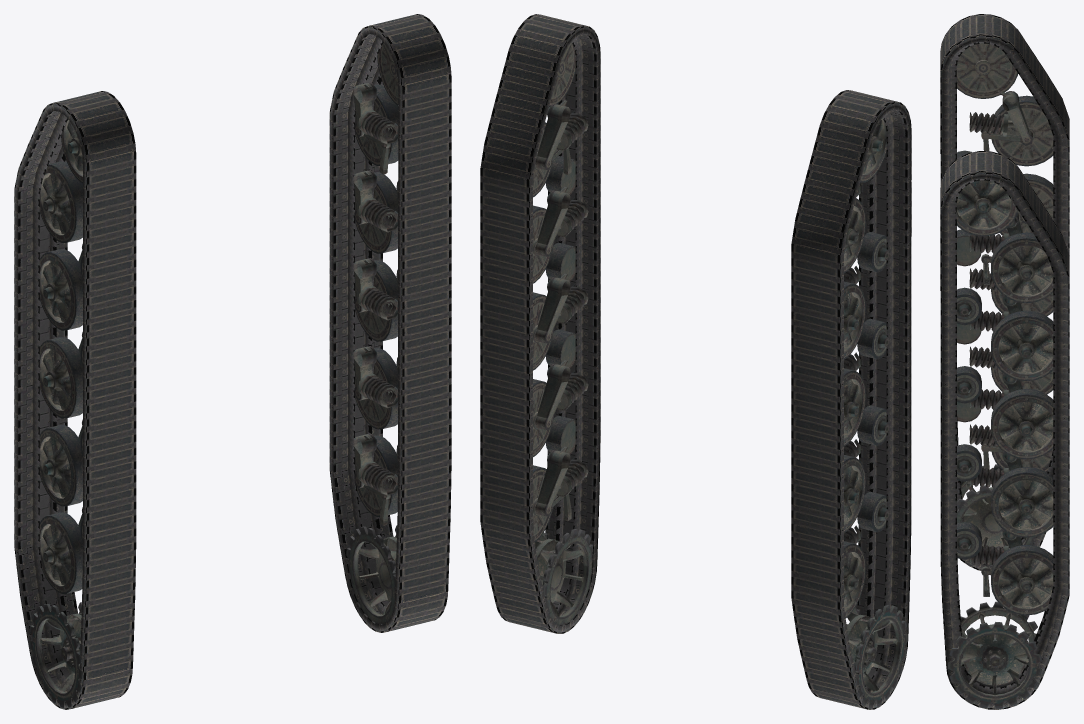
The model's file is Chassis.glb.
3 renders of one model, left to right at view 1: azimuth 30°, elevation 25°; view 2: azimuth 150°, elevation 25°; view 3: azimuth 270°, elevation 25°, orthographic. The views are drawn at different scales.
Parts seen in each view (by area): view 1: set_0_group_0, set_1_group_0, set_2_group_0, set_3_group_0; view 2: set_0_group_0, set_1_group_0, set_3_group_0, set_2_group_0; view 3: set_3_group_0, set_1_group_0, set_2_group_0, set_0_group_0.
Boxes of the visible parts, x1,y1,x2,y2 form: set_0_group_0: (14,91,136,709); set_1_group_0: (329,14,451,632); set_2_group_0: (29,120,82,707); set_3_group_0: (346,43,398,624); set_0_group_0: (791,90,911,709); set_1_group_0: (480,14,600,633); set_3_group_0: (533,42,592,625); set_2_group_0: (844,118,907,707); set_3_group_0: (948,179,1053,708); set_1_group_0: (940,151,1069,709); set_2_group_0: (956,43,1053,565); set_0_group_0: (940,14,1069,570).
Bounding box in the file's own units: 2.1 × 3.31 × 0.7238.
Materials: 4 (4 with a texture image).
